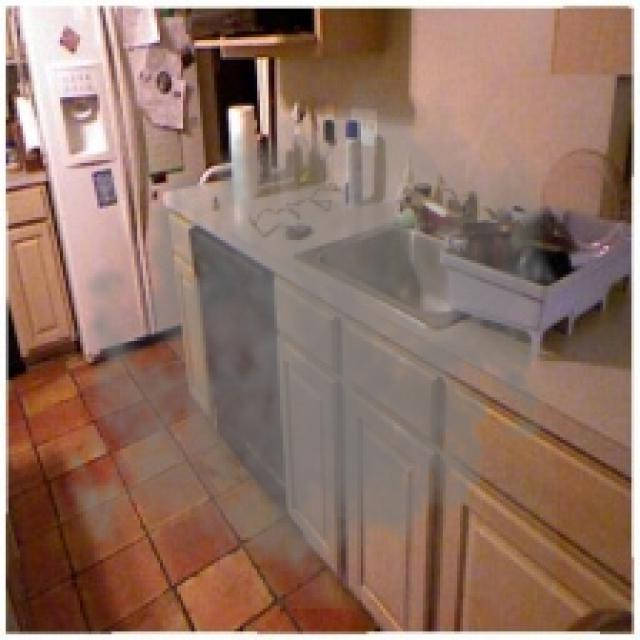Smoke: (51, 51, 568, 608)
